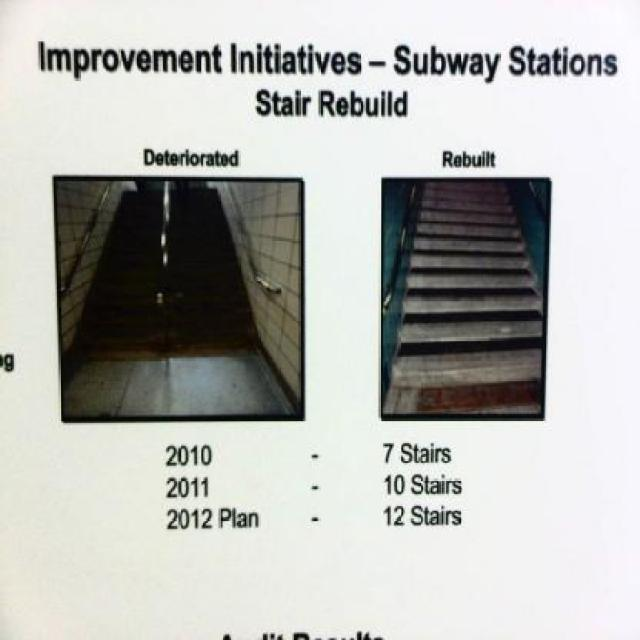stair: (383, 178, 546, 416), (69, 187, 260, 356)
